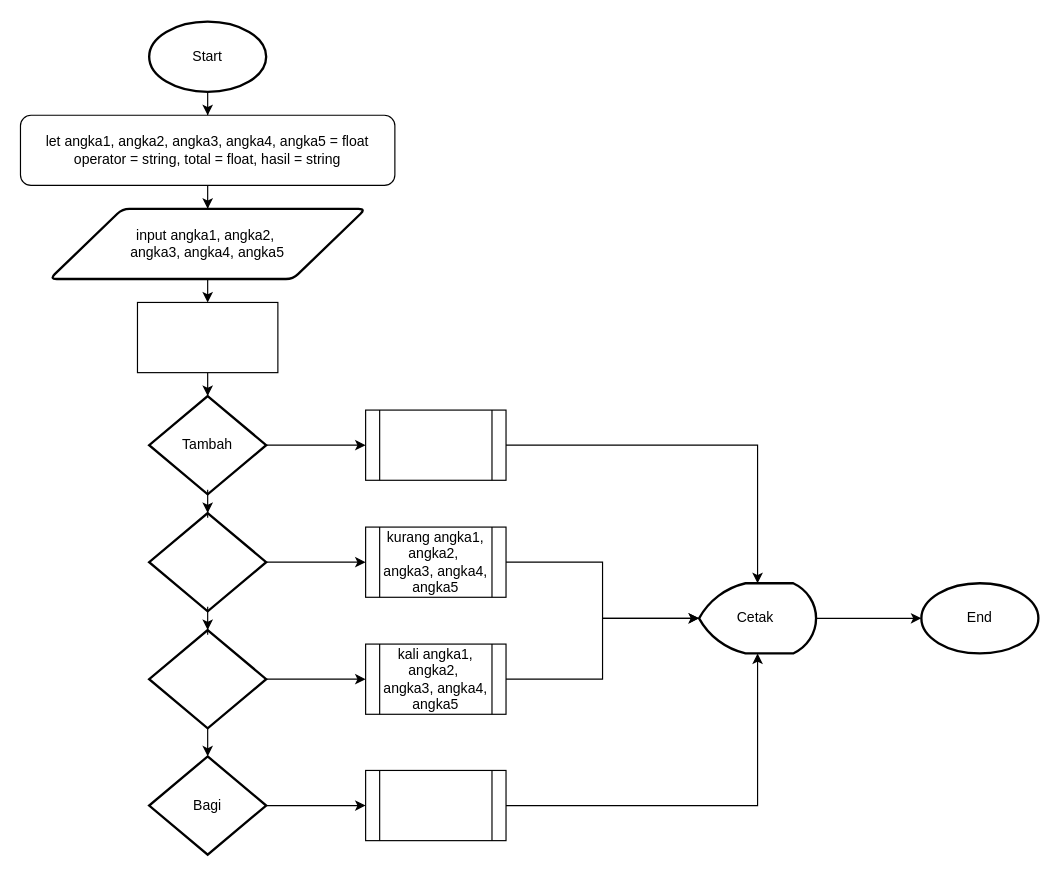
The diagram is 1060 pixels wide and 875 high, and some of its shapes have lost their labels. The shapes that lost their labels are listed below. From the top down, each one's centre as x and y in pixels, then its label:
(207,337): Pilih Operator
(435,444): tambah angka1, angka2, angka3, angka4, angka5
(207,561): Kurang
(207,678): Kali
(435,805): bagi angka1, angka2, angka3, angka4, angka5
